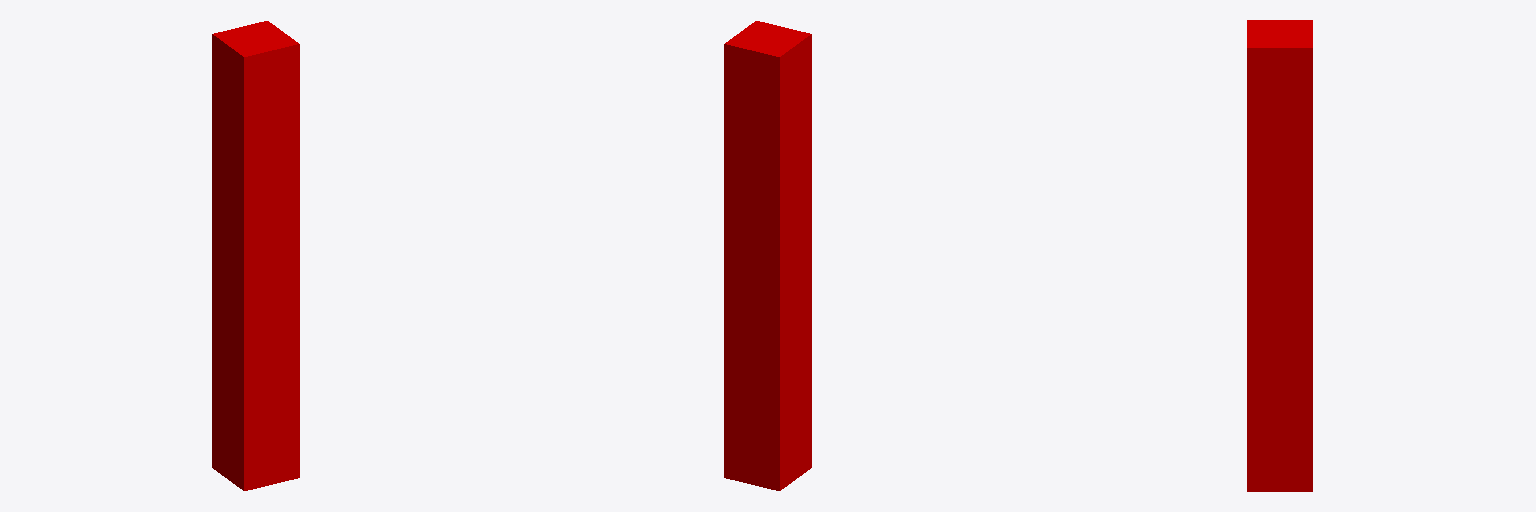
The robot description file, URDF, robot "peg":
<?xml version="1.0" ?>

<robot name="peg">
<link name="world">
    <inertial>
      <mass value="10000.0"/>
      <!-- <inertia ixx="1000.0" ixy="0.0" ixz="0.0" iyy="1000.0" iyz="0.0" izz="1000.0"/> -->
    </inertial>
</link>

<joint name="world_joint_1" type="prismatic">
    <parent link="world"/>
    <child link="virtual_link_1"/>
    <origin rpy="0 0 0" xyz="0 0 0"/> 
    <axis xyz="1 0 0"/>
    <limit effort="10" lower="-0.5" upper="0.5" velocity="0.5"/>
</joint>

<link name="virtual_link_1">
    <inertial>
      <mass value="0.00000"/>
    </inertial>
</link>

<joint name="world_joint_2" type="prismatic">
    <parent link="virtual_link_1"/>
    <child link="virtual_link_2"/>
    <origin rpy="0 0 0" xyz="0 0 0"/> 
    <axis xyz="0 1 0"/>
    <limit effort="10" lower="-0.5" upper="0.5" velocity="0.5"/>
</joint>

<link name="virtual_link_2">
    <inertial>
      <mass value="0.00000"/>
    </inertial>
</link>

<joint name="world_joint_3" type="prismatic">
    <parent link="virtual_link_2"/>
    <child link="virtual_link_3"/>
    <origin rpy="0 0 0" xyz="0 0 0"/> 
    <axis xyz="0 0 1"/>
    <limit effort="10" lower="-0.7" upper="1." velocity="0.5"/>
</joint>

<link name="virtual_link_3">
    <inertial>
      <mass value="0.00000"/>
    </inertial>
</link>


<joint name="world_joint_4" type="revolute">
    <parent link="virtual_link_3"/>
    <child link="virtual_link_4"/>
    <origin rpy="0 0 0" xyz="0 0 0"/> 
    <axis xyz="1 0 0"/>
    <limit effort="10" lower="-3" upper="3" velocity="0.5"/>
</joint>

<link name="virtual_link_4">
    <inertial>
      <mass value="0.00000"/>
    </inertial>
</link>

<joint name="world_joint_5" type="revolute">
    <parent link="virtual_link_4"/>
    <child link="virtual_link_5"/>
    <origin rpy="0 0 0" xyz="0 0 0"/> 
    <axis xyz="0 1 0"/>
    <limit effort="10" lower="-3" upper="3" velocity="0.5"/>
</joint>

<link name="virtual_link_5">
    <inertial>
      <mass value="0.00000"/>
    </inertial>
</link>

<joint name="world_joint_6" type="revolute">
    <parent link="virtual_link_5"/>
    <child link="peg"/>
    <origin rpy="0 0 0" xyz="0 0 0"/> 
    <axis xyz="0 0 1"/>
    <limit effort="10" lower="-3" upper="3" velocity="0.5"/>
</joint>


<link name="peg">
    <inertial>
      <mass value="0.01"/>
      <!-- <inertia ixx="0.3" ixy="0.0" ixz="0.0" iyy="0.7" iyz="0.0" izz="0.7"/> -->
    </inertial>
    <!-- <visual>
        <origin rpy="0 0 0" xyz="0 0 0"/>
        <geometry>
            <cylinder radius="0.02" length="0.3"/>
        </geometry>
        <material name="Red1">
	 	    <color rgba="0.9 0. 0. 0.5"/>
        </material>
    </visual>
    <collision>
        <origin rpy="0 0 0" xyz="0 0 0.0"/>
        <geometry>
            <cylinder radius="0.02" length="0.3"/>
        </geometry>
    </collision> -->
    <visual>
        <origin rpy="0 0 0" xyz="0 0 0"/>
        <geometry>
            <box size='0.04 0.04 0.3'/>
        </geometry>
        <material name="Red1">
	 	    <color rgba="0.9 0. 0. 0.5"/>
        </material>
    </visual>
    <collision>
        <origin rpy="0 0 0" xyz="0 0 0.0"/>
        <geometry>
            <box size='0.04 0.04 0.3'/>
        </geometry>
    </collision>
</link>


<!-- <joint name="peg_marker_joint" type="fixed">
    <parent link="peg"/>
    <child link="marker"/>
    <origin rpy="0 0 0" xyz="0 0 0"/> 
    <axis xyz="0 0 1"/>
</joint>

<link name="marker">
    <inertial>
      <mass value="0.00"/>
    </inertial>
    <visual>
        <origin rpy="1.57 0 0" xyz="0 0 0"/>
        <geometry>
            <cylinder radius="0.005" length="0.1"/>
        </geometry>
        <material name="Blue">
	 	    <color rgba="0 0 0.9 1.0"/>
        </material>
    </visual>
</link> -->

</robot>

--- Render facts (derived) ---
3 views of the same robot in one strip: view 1: azimuth 30°, elevation 25°; view 2: azimuth 150°, elevation 25°; view 3: azimuth 270°, elevation 25° (orthographic).
Model peg with 7 links and 6 joints (3 revolute, 3 prismatic), rooted at world, posed every joint at zero.
Links seen in each view (by area): view 1: peg; view 2: peg; view 3: peg.
Boxes of the visible links, x1,y1,x2,y2 form: peg: (212, 21, 299, 490); peg: (724, 21, 811, 490); peg: (1247, 20, 1312, 491).
Bounding box of the posed robot: 0.04 × 0.04 × 0.3 m (x, y, z).
Geometry: primitives only (box / cylinder / sphere), no mesh files.